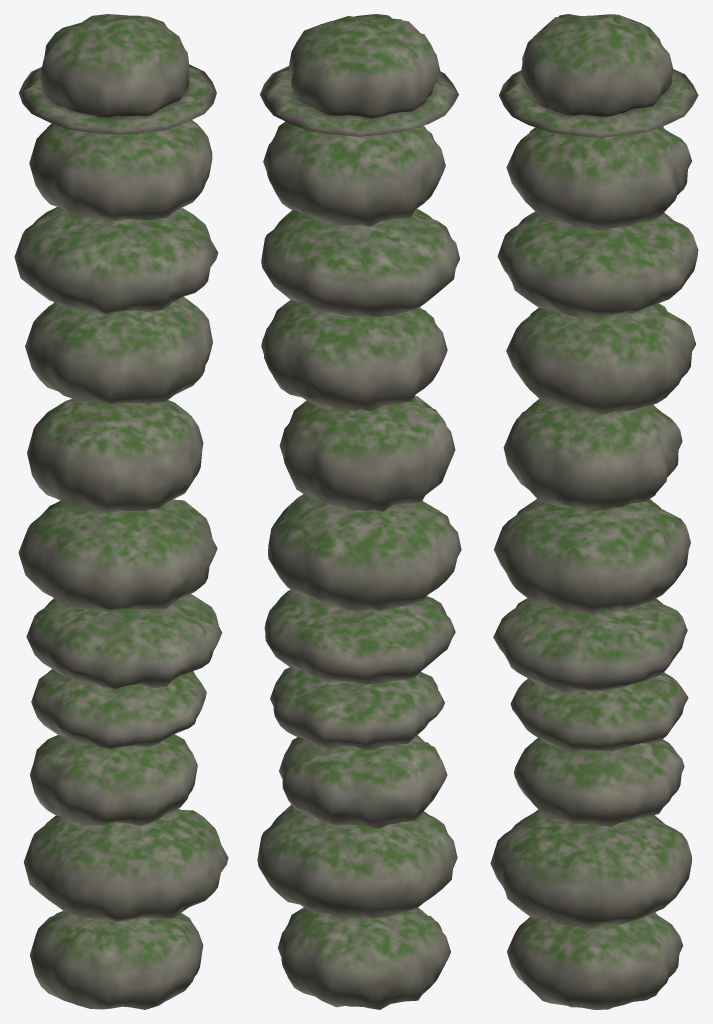
File: rock_pillar.glb
3 renders of one model, left to right at view 1: azimuth 30°, elevation 25°; view 2: azimuth 150°, elevation 25°; view 3: azimuth 270°, elevation 25°, orthographic.
Parts seen in each view (by area): view 1: RockPillar; view 2: RockPillar; view 3: RockPillar.
Part boxes in pixels (bbox=[...]): RockPillar: bbox=[14, 14, 228, 1009]; RockPillar: bbox=[257, 14, 461, 1009]; RockPillar: bbox=[490, 14, 698, 1009].
Bounding box in the file's own units: 5.72 × 29.98 × 5.84.
Materials: 1 (1 with a texture image).
